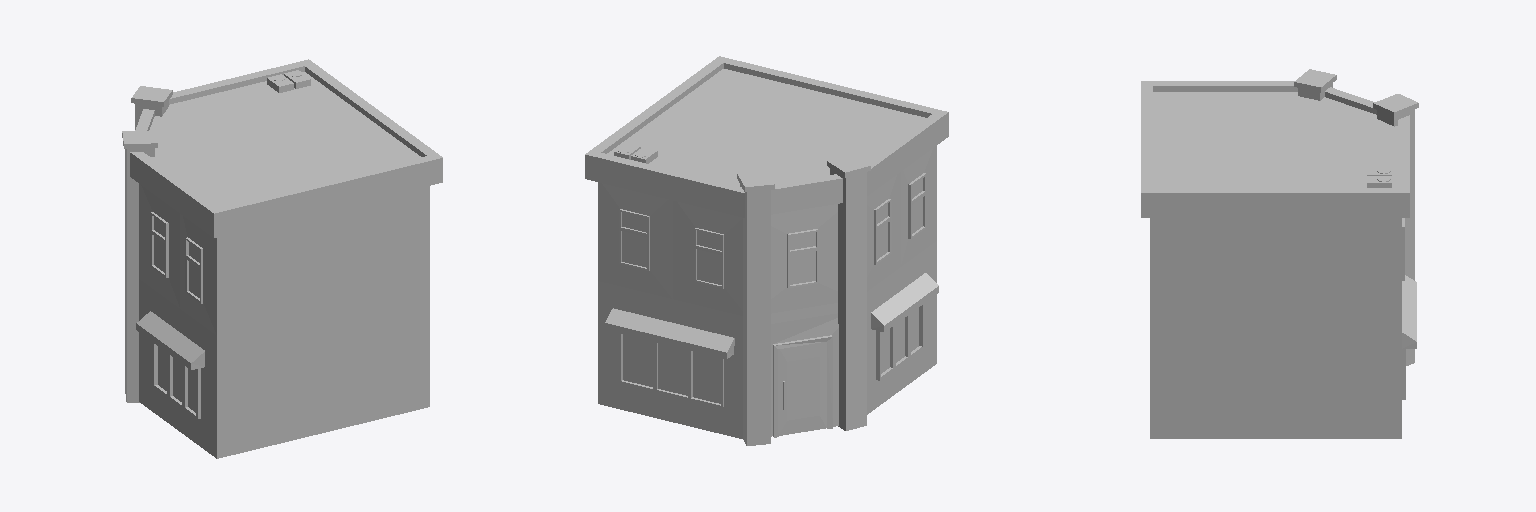
File: building2.obj
3 views of the same model, side by side, from view 1: azimuth 30°, elevation 25°; view 2: azimuth 150°, elevation 25°; view 3: azimuth 270°, elevation 25° (orthographic).
Visible parts, largest first — view 1: albergo; view 2: albergo; view 3: albergo.
Boxes of the visible parts, box(x1,y1,x2,y2) form: albergo: box(122, 59, 442, 458); albergo: box(585, 56, 948, 445); albergo: box(1141, 69, 1418, 438).
Bounding box in the file's own units: 1.37 × 1.44 × 1.39.